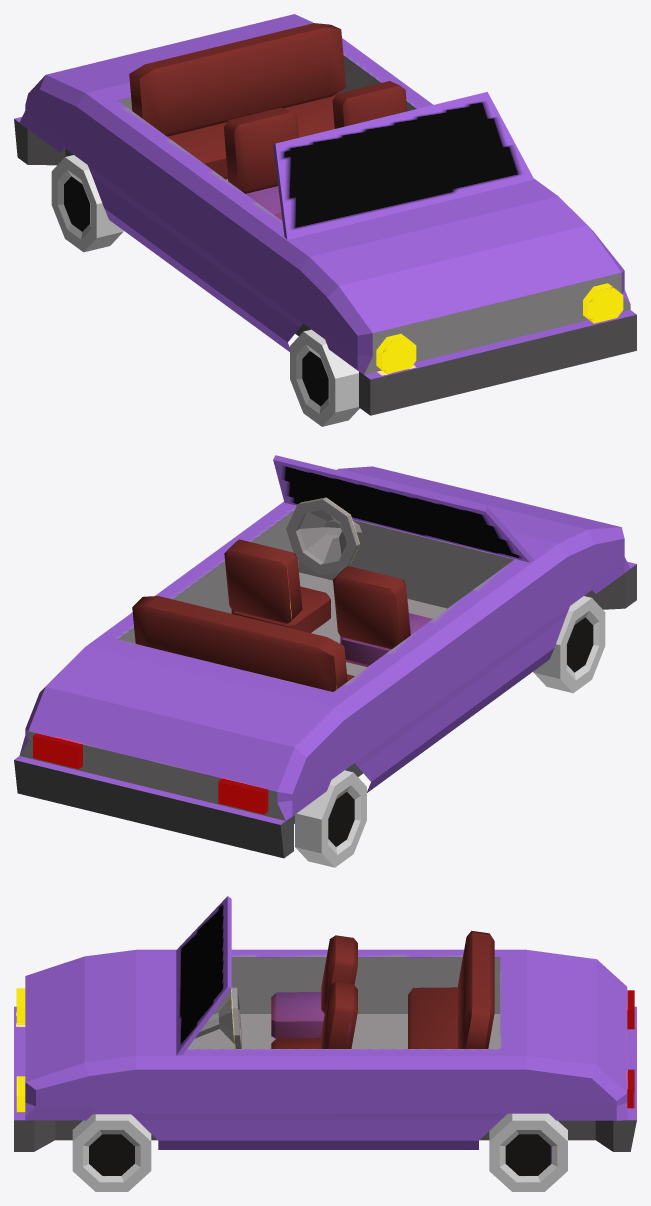
File: Cabriolet.fbx
3 renders of one model, top to bottom at view 1: azimuth 30°, elevation 25°; view 2: azimuth 150°, elevation 25°; view 3: azimuth 270°, elevation 25°, orthographic. The views are drawn at different scales.
Visible parts, largest first — view 1: Cabriolet; view 2: Cabriolet; view 3: Cabriolet.
Part boxes in pixels (<box>): Cabriolet: <box>14,14,636,426</box>; Cabriolet: <box>14,455,636,867</box>; Cabriolet: <box>14,896,636,1191</box>.
Size of the model in its own units: 172 by 135 by 393.
1 material, 1 textured.
